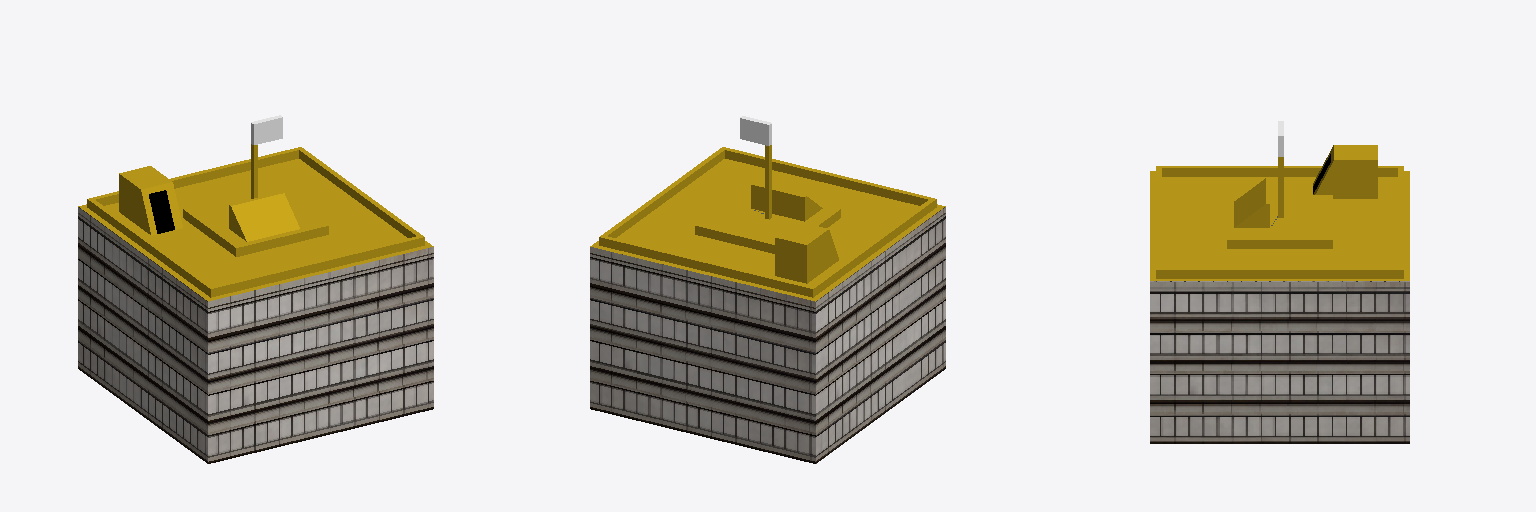
3 views of the same model, side by side, from view 1: azimuth 30°, elevation 25°; view 2: azimuth 150°, elevation 25°; view 3: azimuth 270°, elevation 25° (orthographic).
Parts seen in each view (by area): view 1: Mesh9_Model; view 2: Mesh9_Model; view 3: Mesh9_Model.
Boxes of the visible parts, x1,y1,x2,y2 form: Mesh9_Model: [78, 115, 433, 463]; Mesh9_Model: [590, 116, 945, 463]; Mesh9_Model: [1150, 121, 1409, 443].
Bounding box in the file's own units: 2.81 × 3.17 × 2.81.
Materials: 1 (1 with a texture image).